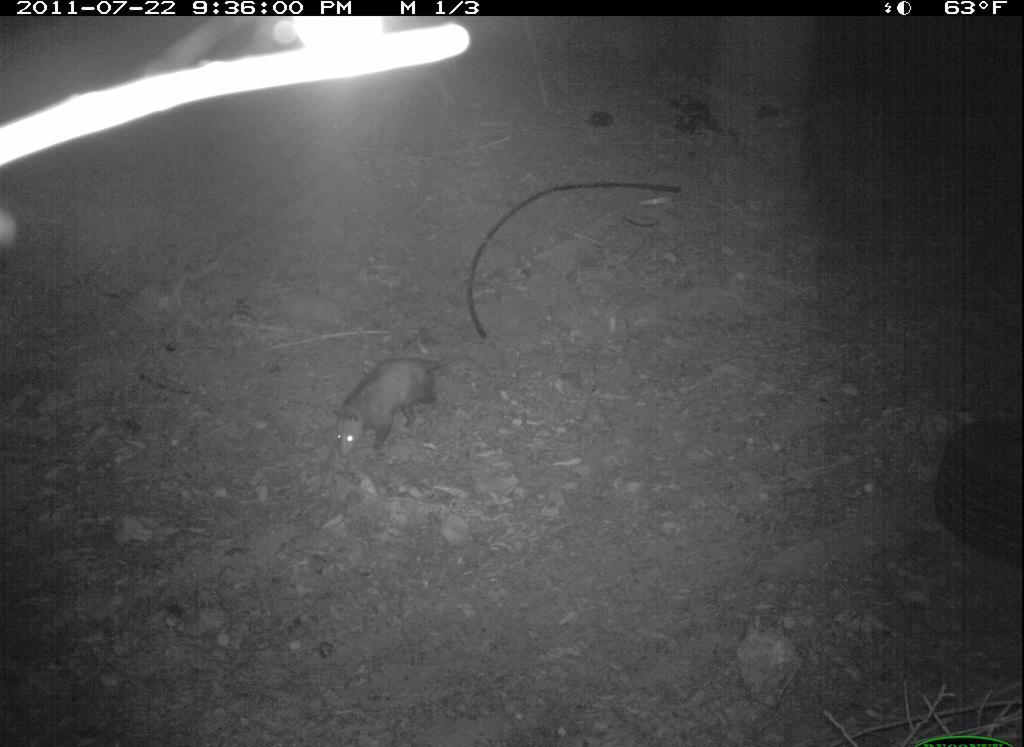opossum: (324, 345, 470, 472)
